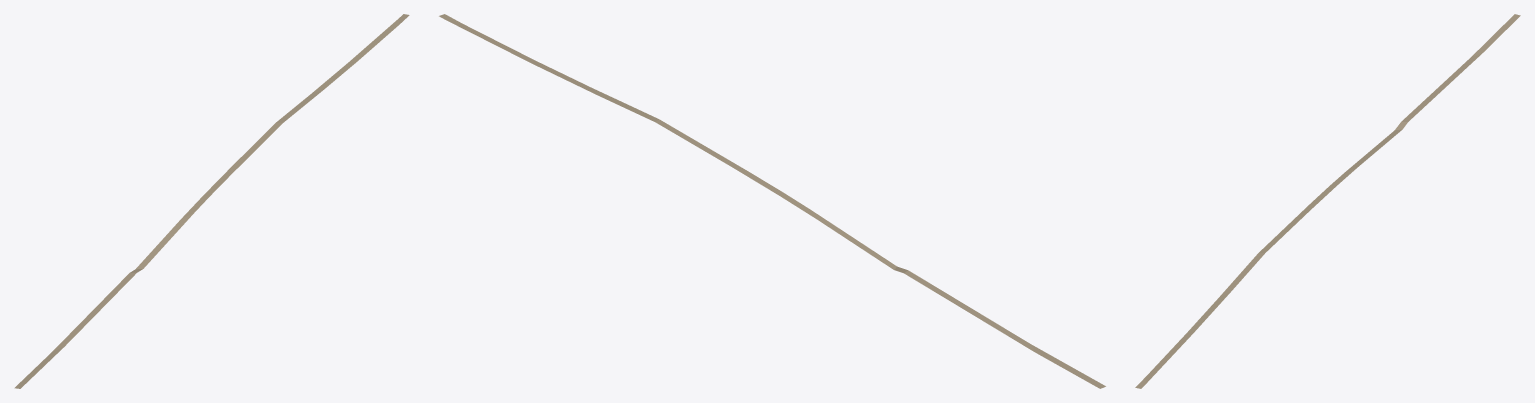
File: farm_8_-2_track.glb
3 renders of one model, left to right at view 1: azimuth 90°, elevation 25°; view 2: azimuth 150°, elevation 25°; view 3: azimuth 270°, elevation 25°, orthographic. The views are drawn at different scales.
Parts seen in each view (by area): view 1: geometry_0; view 2: geometry_0; view 3: geometry_0.
Part boxes in pixels (bbox=[...]): geometry_0: bbox=[14, 14, 409, 388]; geometry_0: bbox=[439, 14, 1105, 388]; geometry_0: bbox=[1135, 14, 1520, 388].
Size of the model in its own units: 427 by 8.1 by 188.
